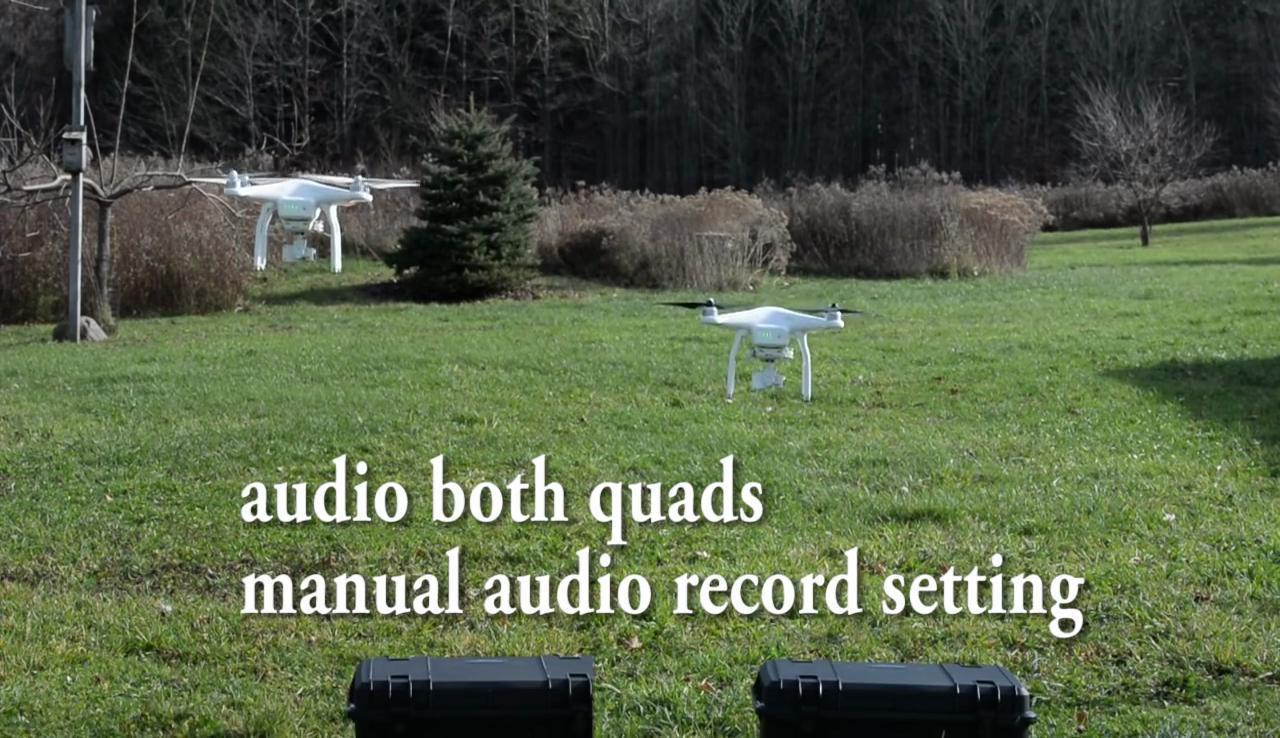drone: (671, 282, 854, 406), (221, 156, 398, 271)
